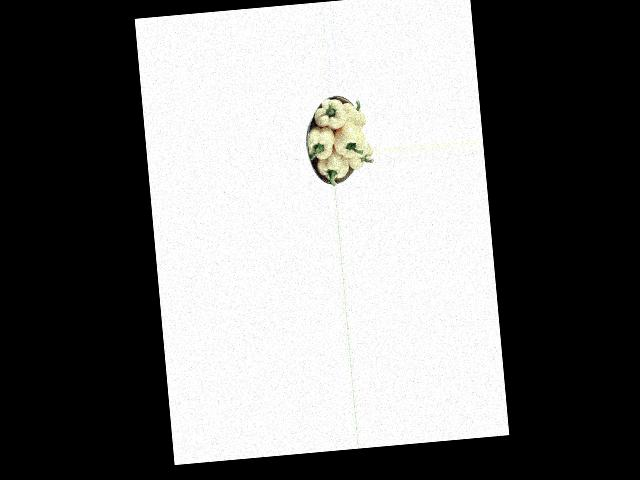bell_pepper: (344, 142, 374, 173)
